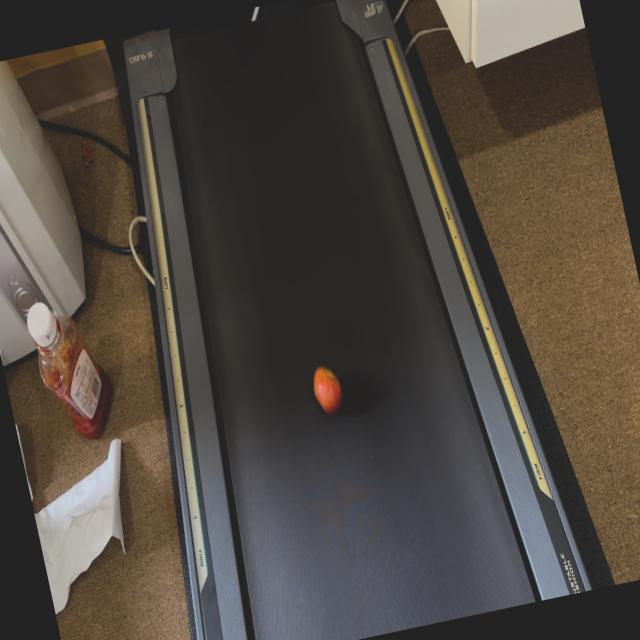Trash: (307, 360, 346, 415)
